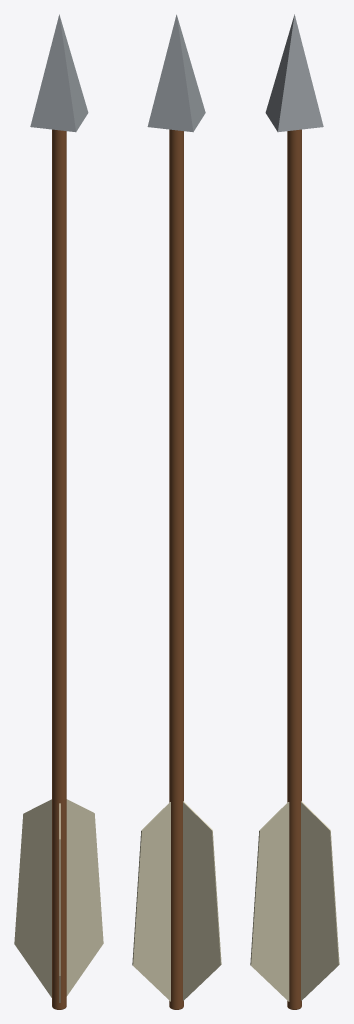
The model's file is arrow.glb.
3 views of the same model, side by side, from view 1: azimuth 30°, elevation 25°; view 2: azimuth 210°, elevation 25°; view 3: azimuth 330°, elevation 25° (orthographic).
Parts seen in each view (by area): view 1: Cedar arrow shaft, Arrow fletching.001, Arrow fletching, Forged broadhead, Arrow fletching.002; view 2: Cedar arrow shaft, Arrow fletching, Arrow fletching.001, Forged broadhead; view 3: Cedar arrow shaft, Arrow fletching.002, Arrow fletching, Forged broadhead.
Part boxes in pixels (x1=…): Cedar arrow shaft: x1=52, y1=129, x2=66, y2=1009; Arrow fletching.001: x1=14, y1=799, x2=51, y2=997; Arrow fletching: x1=66, y1=799, x2=103, y2=996; Forged broadhead: x1=30, y1=14, x2=88, y2=132; Arrow fletching.002: x1=59, y1=803, x2=60, y2=1002; Cedar arrow shaft: x1=169, y1=129, x2=183, y2=1009; Arrow fletching: x1=132, y1=802, x2=170, y2=1001; Arrow fletching.001: x1=183, y1=801, x2=221, y2=1000; Forged broadhead: x1=147, y1=14, x2=205, y2=132; Cedar arrow shaft: x1=287, y1=129, x2=301, y2=1009; Arrow fletching.002: x1=250, y1=802, x2=289, y2=1001; Arrow fletching: x1=301, y1=801, x2=339, y2=1000; Forged broadhead: x1=265, y1=14, x2=323, y2=132.
Bounding box in the file's own units: 0.058 × 0.75 × 0.0611.
